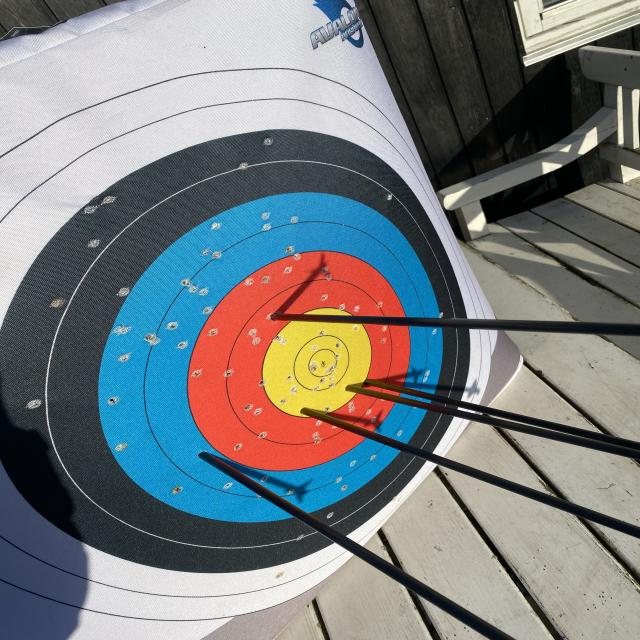Arrow_Blue: (182, 442, 222, 475)
Arrow_Red: (257, 299, 321, 344), (357, 368, 383, 390)
Arrow_Yellow: (293, 398, 314, 428), (335, 380, 364, 399)
